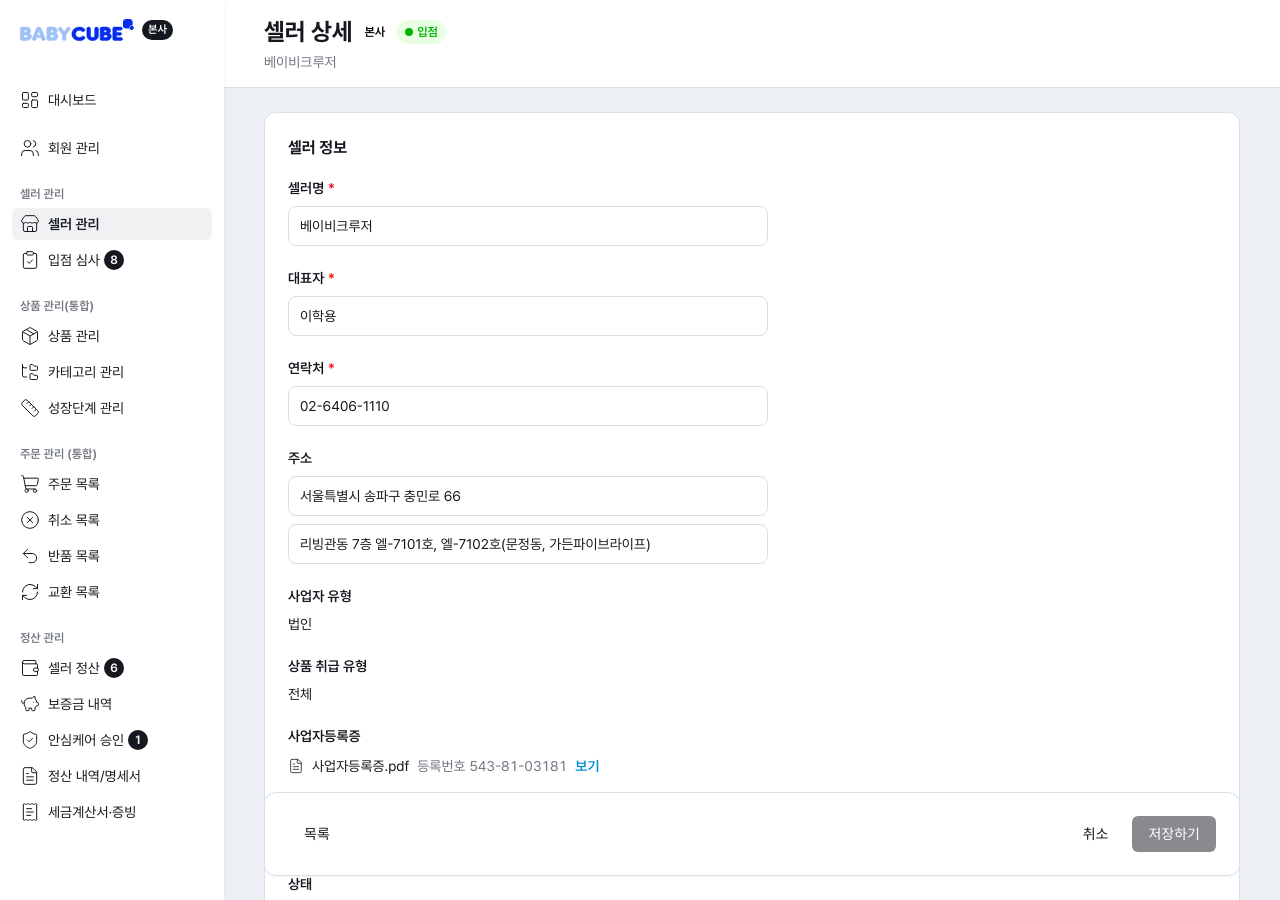
it: SellerDetailPage (S03-D 셀러 상세) › 본사 계정 › 나머지(셀러명·대표자·주소·소개)는 고치고 저장할 수 있다
Type " 직영" into the field labelled "셀러명" at (528, 226), box top-left (300, 214), bottom-right (756, 238)
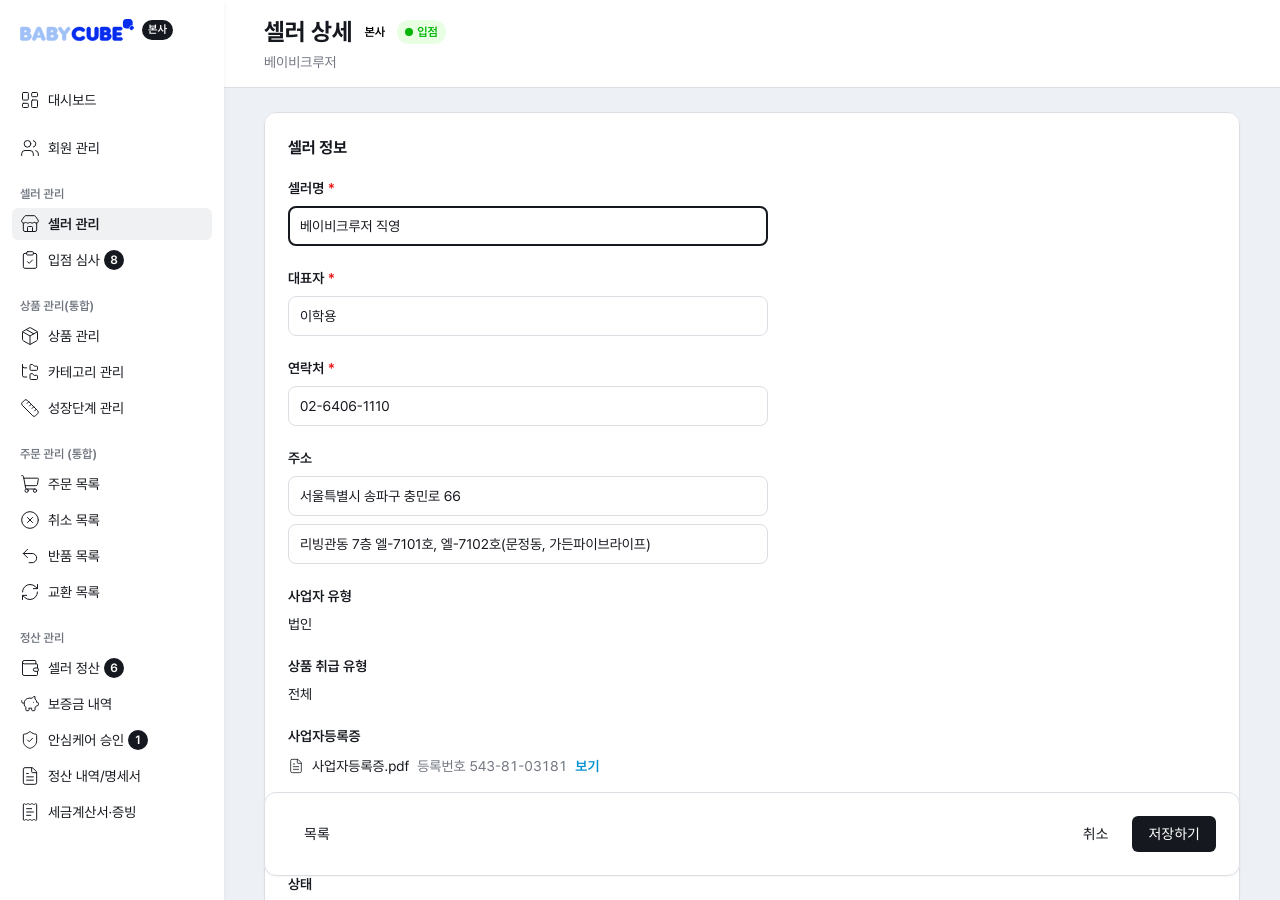
Type "님" into the field labelled "대표자" at (528, 316), box top-left (300, 304), bottom-right (756, 328)
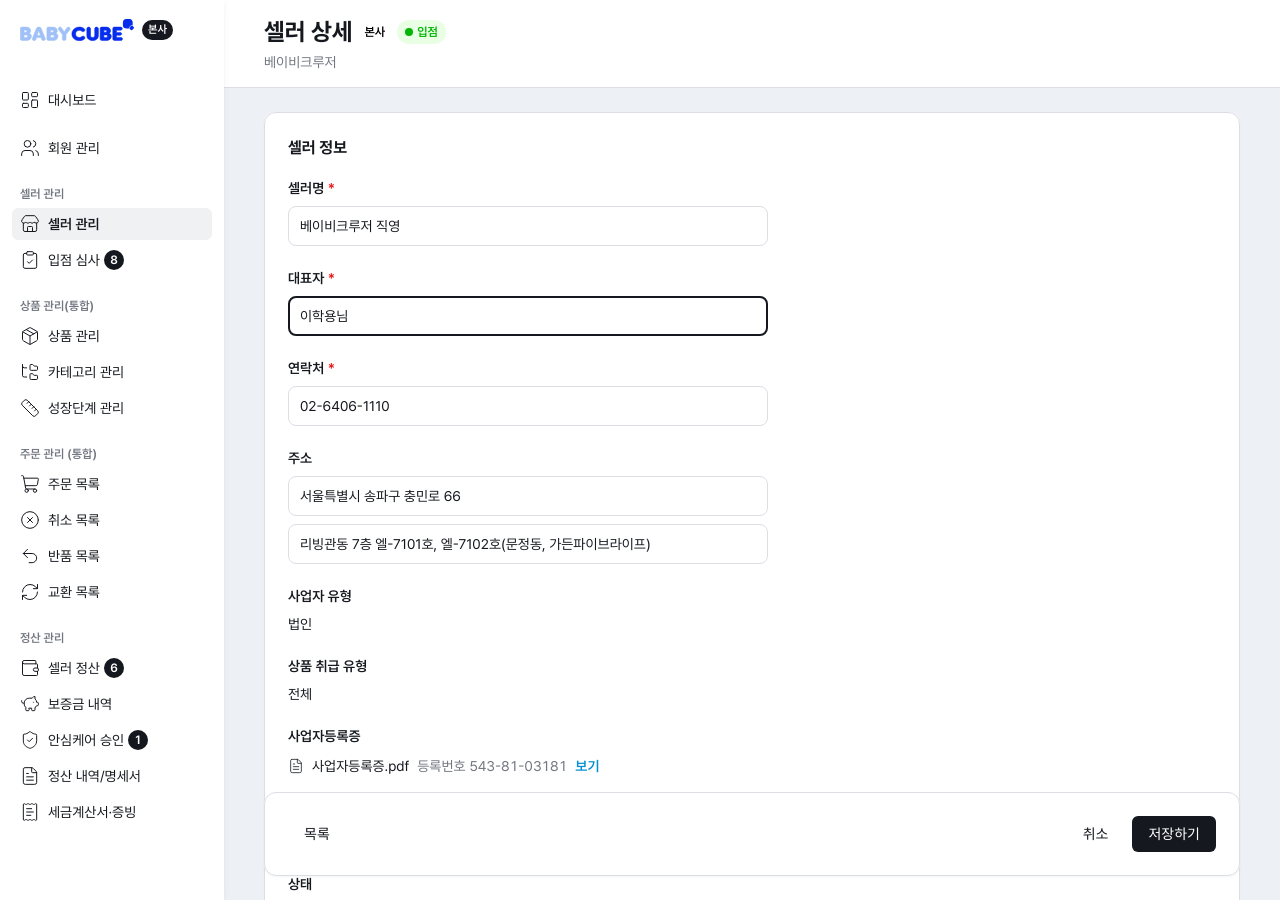
Type " 1201호" into the field named "상세 주소 · 우편번호" at (528, 544), box top-left (300, 532), bottom-right (756, 556)
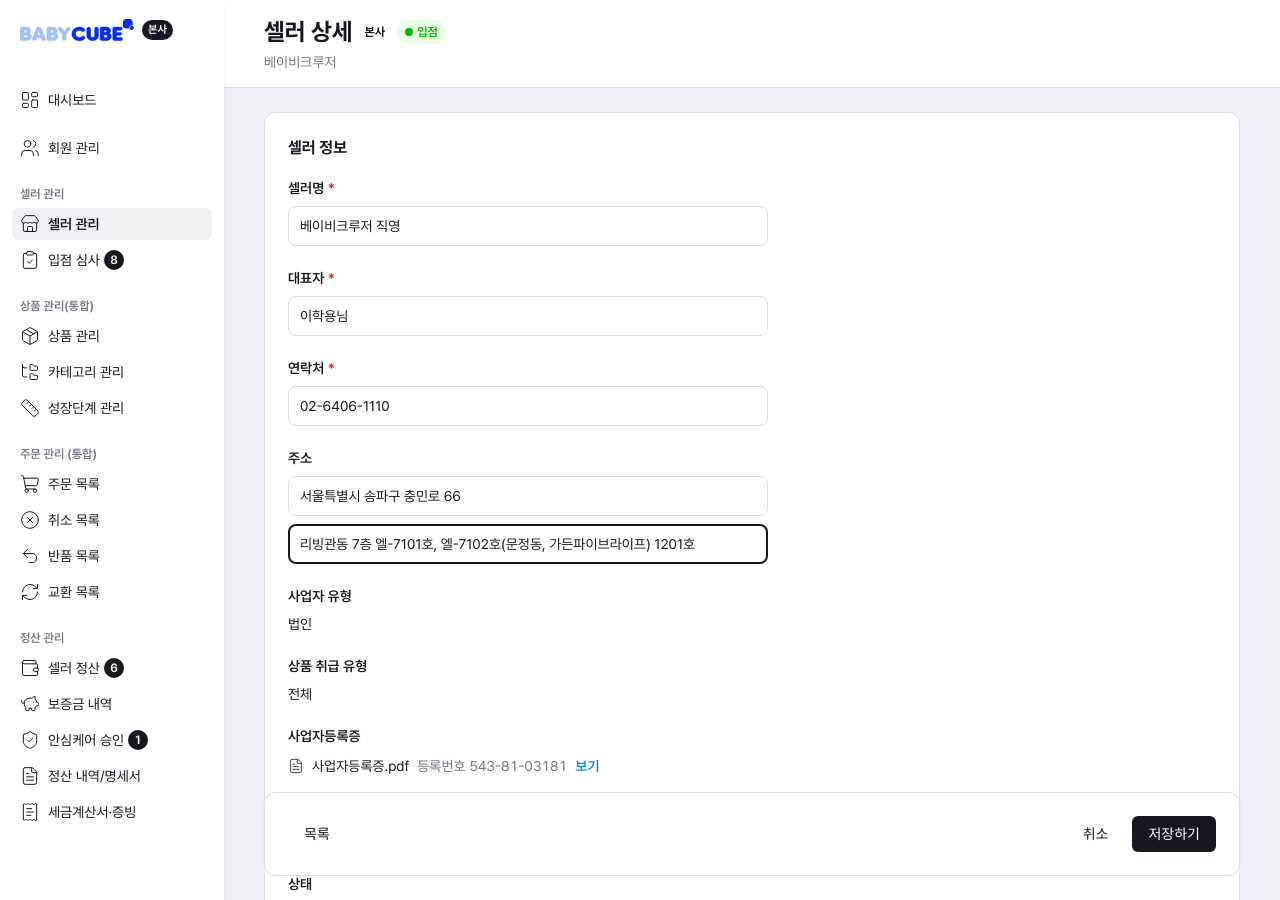
Click the button "저장하기" at (1174, 834), box top-left (1132, 816), bottom-right (1216, 852)
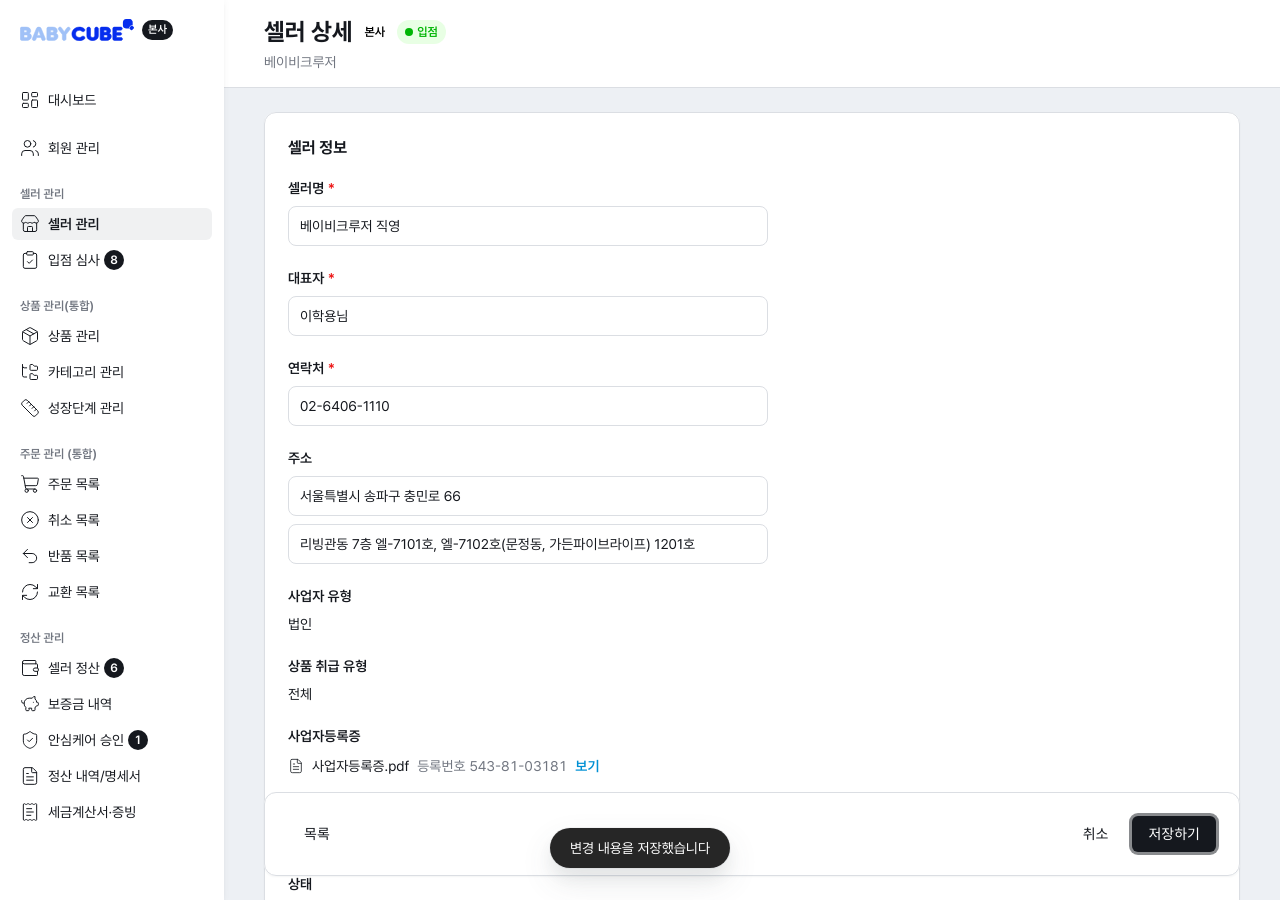
Result: the text "변경 내용을 저장했습니다" is shown at top-left (550, 828), bottom-right (730, 868)
